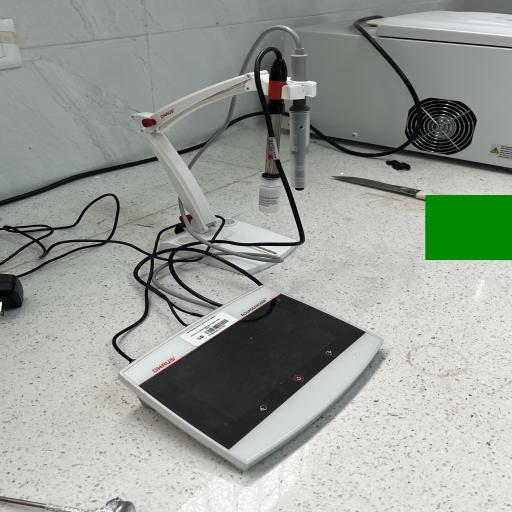Phmetro_Ohaus: (105, 280, 404, 482)
